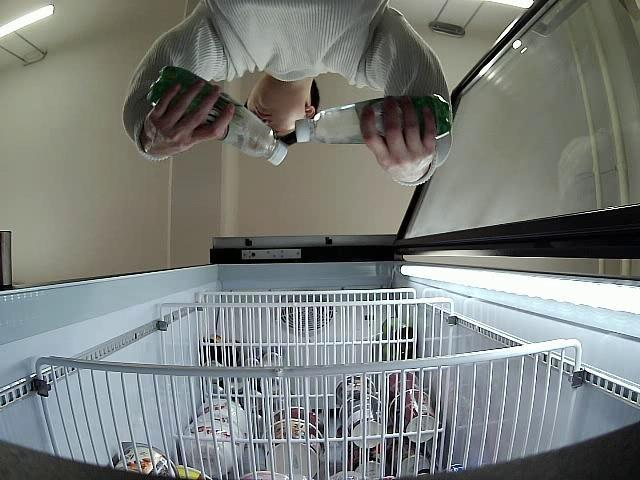18_trevi: (147, 67, 288, 166), (296, 96, 452, 144)
